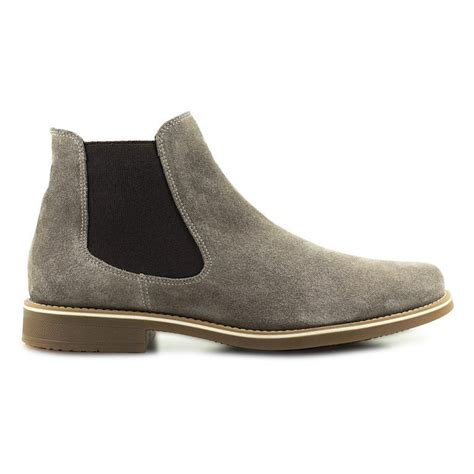gamuza: (28, 109, 445, 331)
